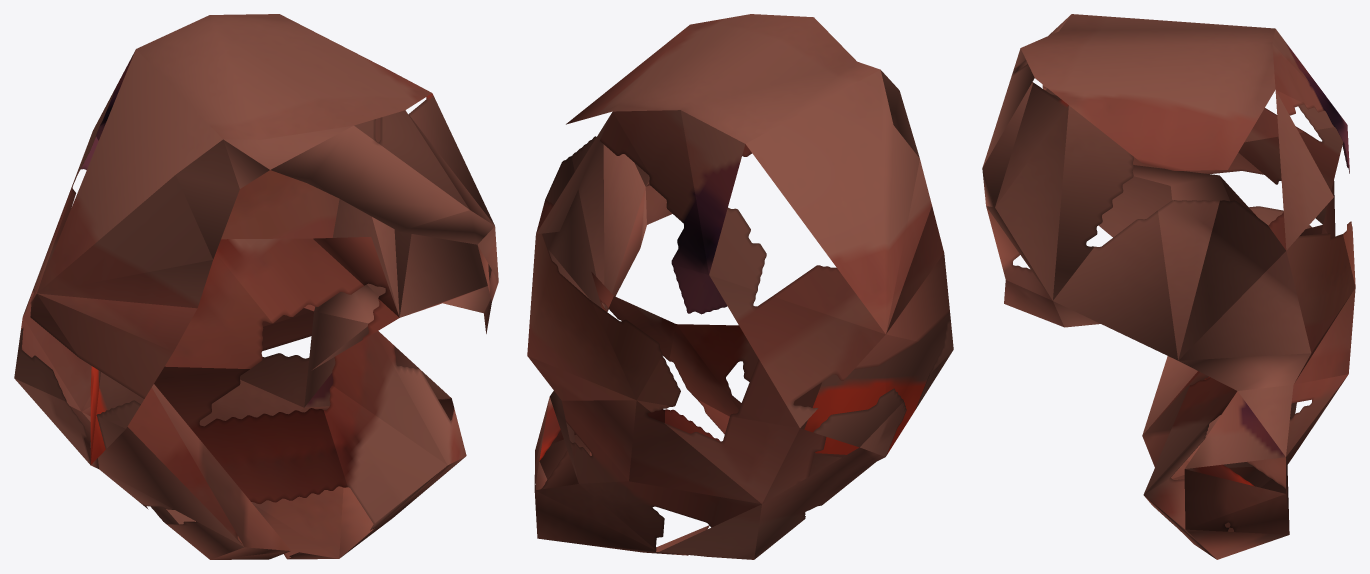
Rendered from WomenHairBase.FBX.
The picture shows the model from 3 angles, left to right: view 1: azimuth 30°, elevation 25°; view 2: azimuth 150°, elevation 25°; view 3: azimuth 270°, elevation 25°; orthographic projection. The views are drawn at different scales.
Parts seen in each view (by area): view 1: Women Hair1; view 2: Women Hair1; view 3: Women Hair1.
Part boxes in pixels (x1,y1,x2,y2): Women Hair1: [14, 14, 498, 559]; Women Hair1: [527, 14, 953, 559]; Women Hair1: [982, 14, 1355, 559].
Bounding box in the file's own units: 275 × 251 × 345.
1 material, 1 textured.
